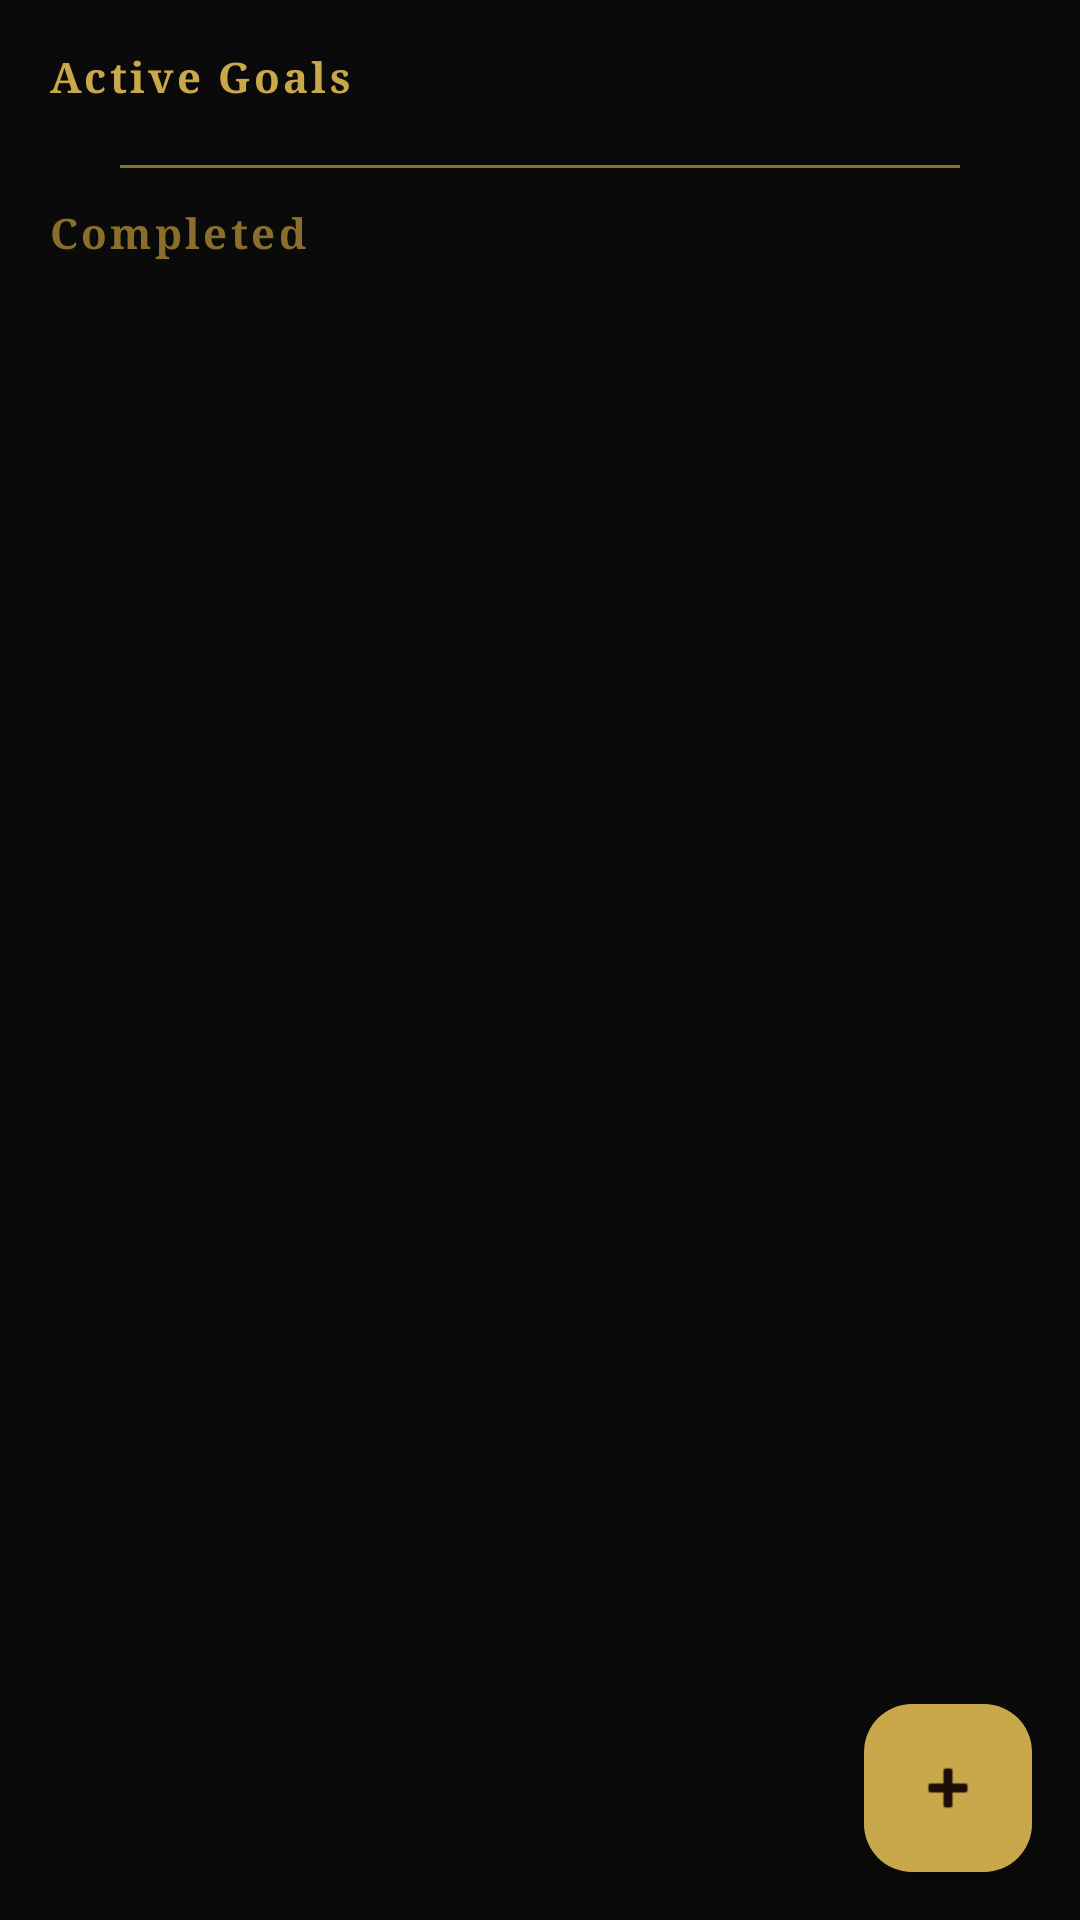

Screen size 1080 × 1920. Icon name, then its center in pixels as (x,y):
Add Goal: (948,1788)
